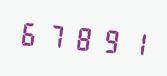eight: (70, 18, 95, 56)
nine: (96, 21, 121, 59)
one: (122, 23, 147, 61)
seven: (44, 16, 69, 54)
six: (18, 14, 43, 52)
